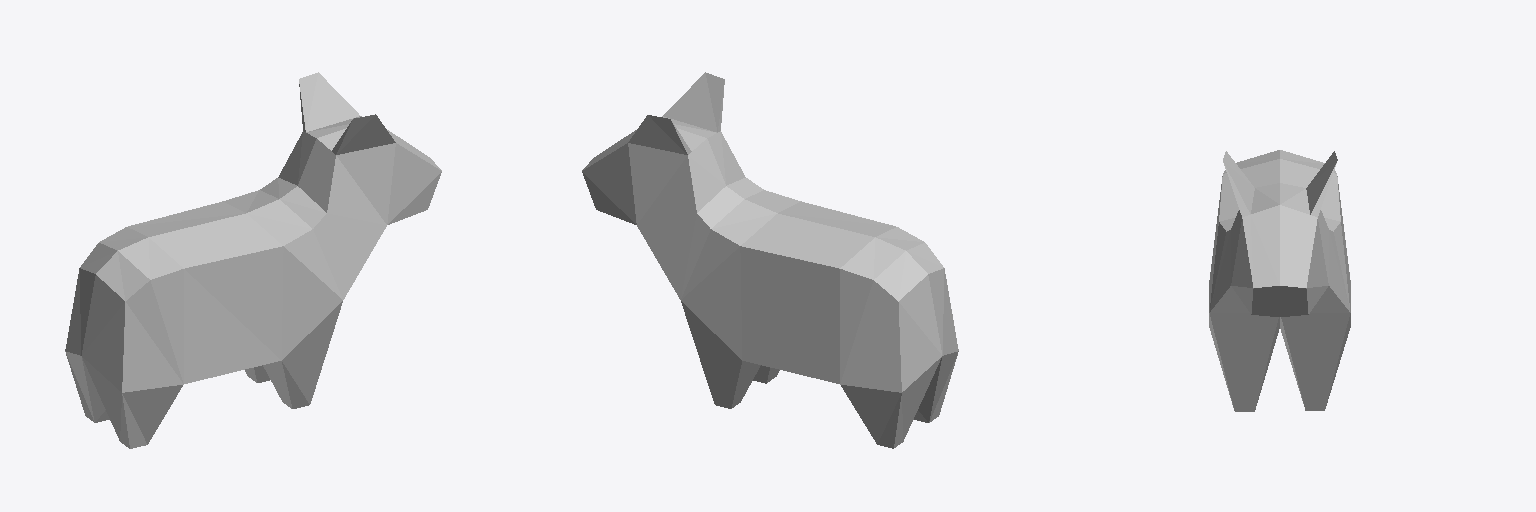
File: horse.obj
3 views of the same model, side by side, from view 1: azimuth 30°, elevation 25°; view 2: azimuth 150°, elevation 25°; view 3: azimuth 270°, elevation 25° (orthographic).
Parts seen in each view (by area): view 1: Cube; view 2: Cube; view 3: Cube.
Boxes of the visible parts, x1=… form: Cube: x1=65, y1=72, x2=441, y2=448; Cube: x1=582, y1=72, x2=958, y2=448; Cube: x1=1209, y1=150, x2=1350, y2=411.
Size of the model in its own units: 5.72 by 4.39 by 2.